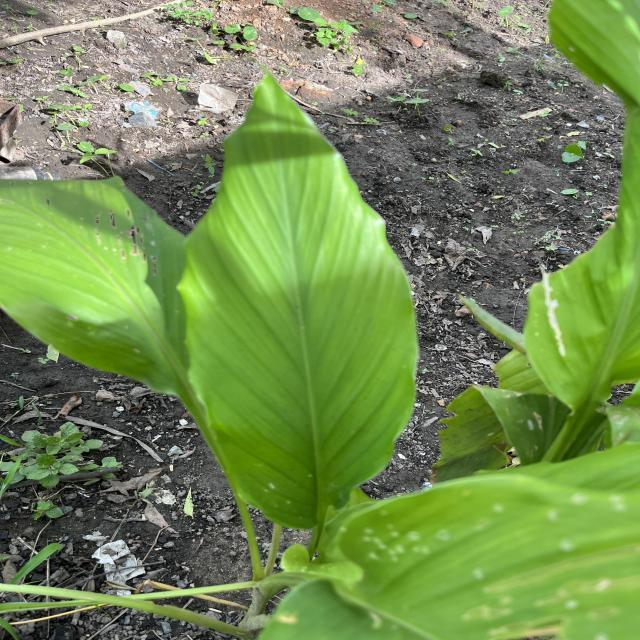Curcuma longa: (166, 55, 424, 532)
